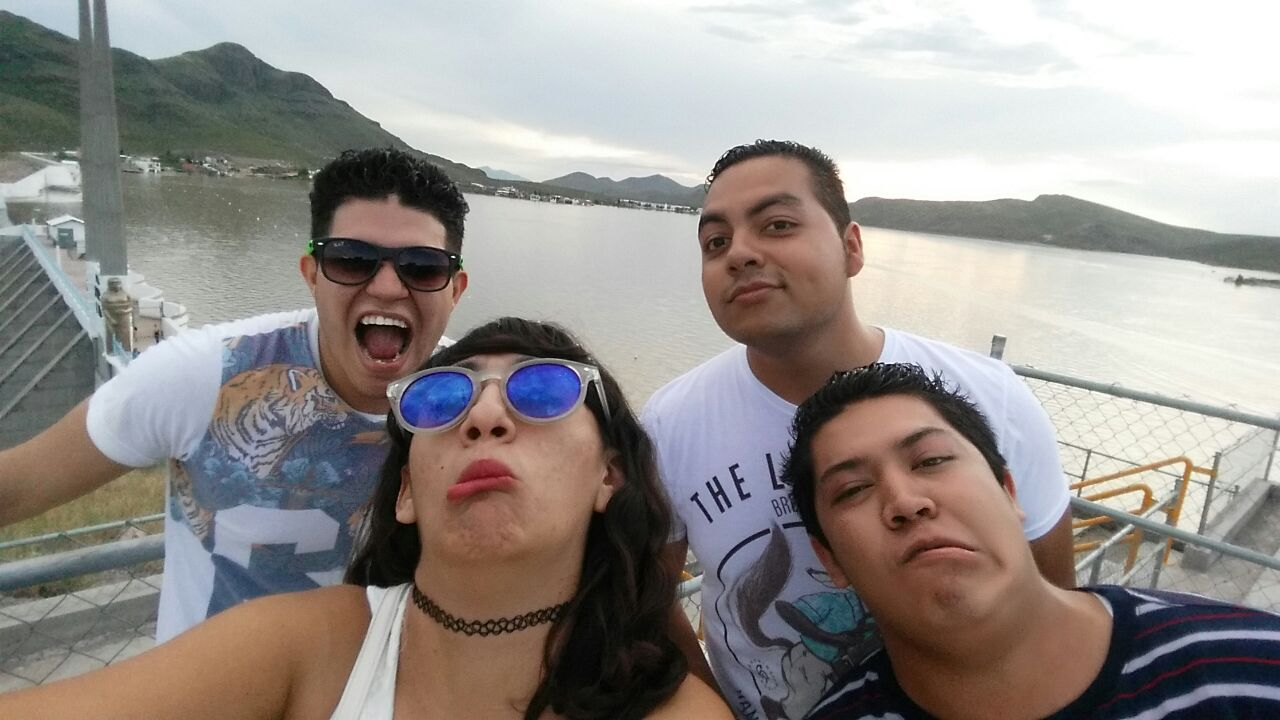Yoshi: (637, 114, 901, 377)
